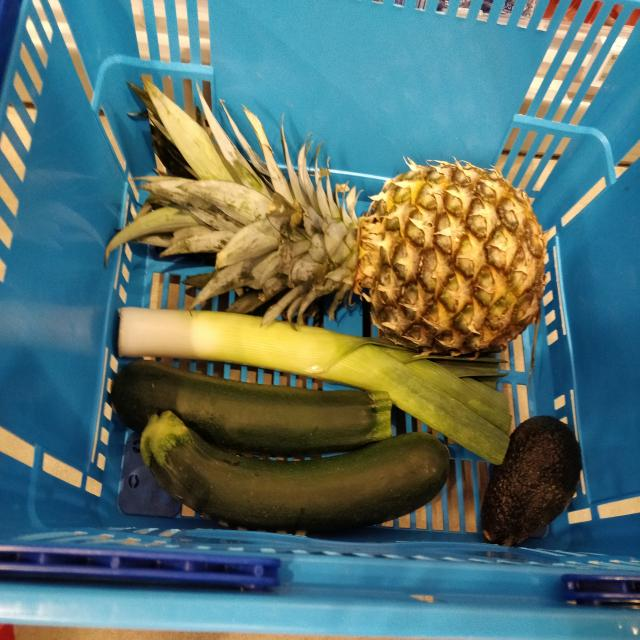avocado: (477, 416, 585, 550)
leek: (115, 308, 513, 465)
pineapple: (106, 76, 549, 362)
yogurt: (135, 412, 453, 537), (109, 361, 392, 457)
